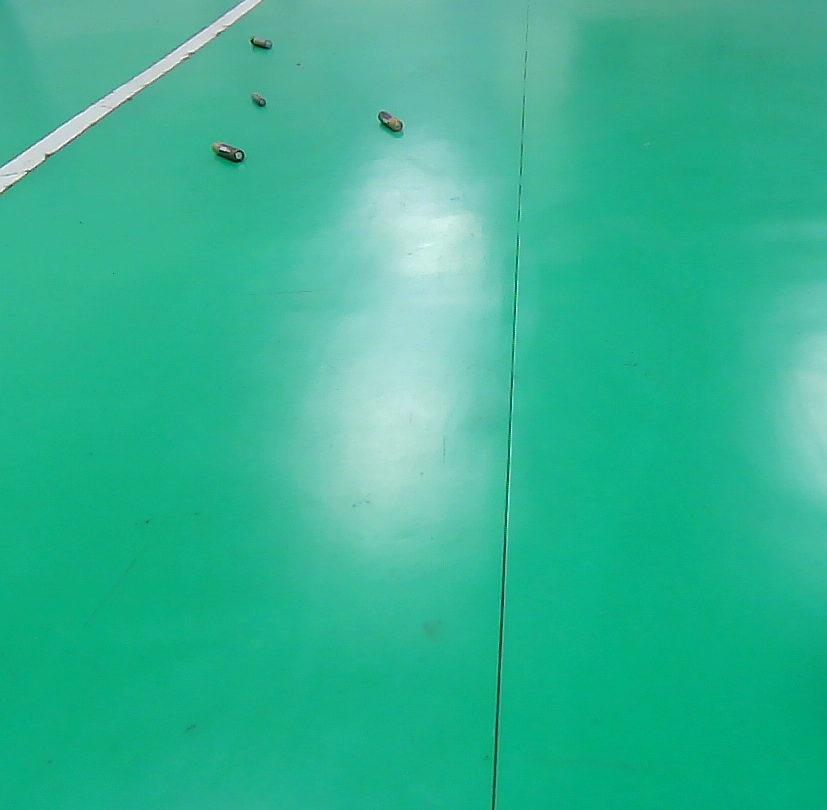battery: (193, 128, 261, 177), (361, 96, 420, 149), (233, 73, 287, 126), (235, 18, 288, 68)
